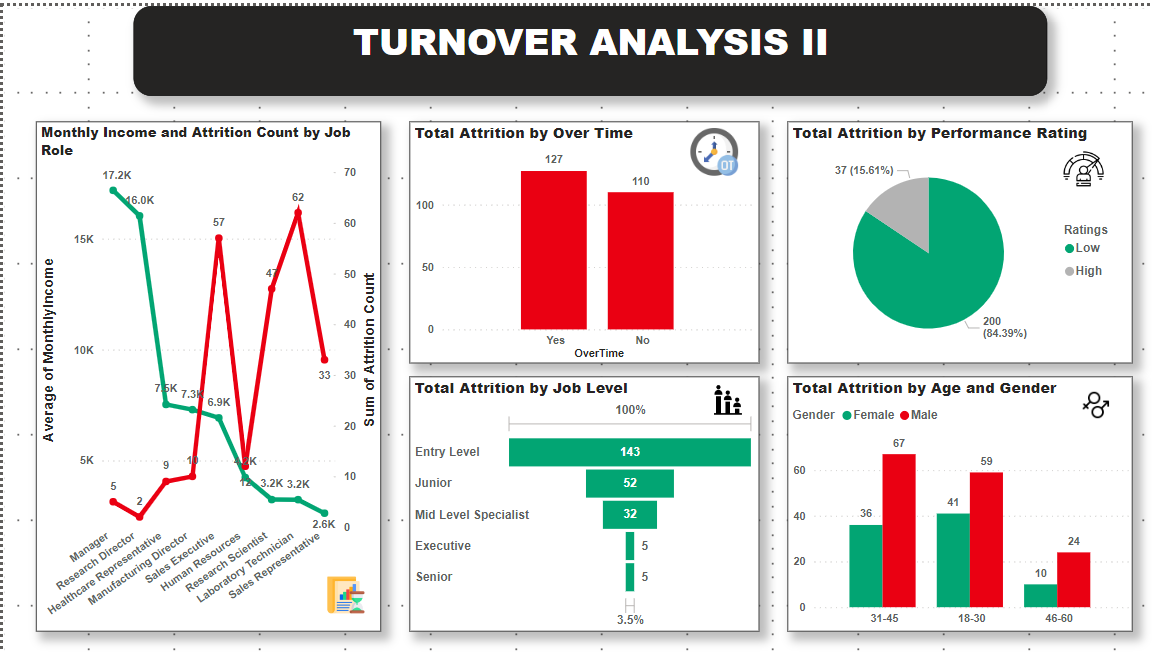

This screenshot's page, from the dashboard's own definition file:
{"tool":"powerbi","page":{"name":"Page 4","canvas":[1280,720],"ordinal":3},"visuals":[{"type":"textbox","title":"TURNOVER ANALYSIS II","box":[145,0,1015,100],"z":0},{"type":"lineChart","title":" Monthly Income and Attrition Count by Job Role","fields":{"Category":["HR-Employee-Attrition.JobRole"],"Y":["Avg(HR-Employee-Attrition.MonthlyIncome)"],"Y2":["Sum(HR-Employee-Attrition.Attrition Count)"]},"box":[36.7,128.3,383.3,566.7],"z":1000},{"type":"image","box":[341.7,628.3,78.3,51.7],"z":2000},{"type":"columnChart","title":"Total Attrition by Over Time","fields":{"Y":["Sum(HR-Employee-Attrition.Attrition Count)"],"Category":["HR-Employee-Attrition.OverTime"]},"box":[451.7,128.3,388.3,268.3],"z":3000},{"type":"pieChart","title":"Total Attrition by Performance Rating","fields":{"Category":["HR-Employee-Attrition.PerformanceRating (groups)"],"Y":["Sum(HR-Employee-Attrition.Attrition Count)"]},"box":[871.7,128.3,383.3,268.3],"z":4000},{"type":"image","box":[740,128.3,100,66.7],"z":5000},{"type":"image","box":[1165,153.3,71.7,55],"z":6000},{"type":"funnel","title":"Total Attrition by Job Level ","fields":{"Y":["Sum(HR-Employee-Attrition.Attrition Count)"],"Category":["HR-Employee-Attrition.JobLevel (groups)"]},"box":[451.7,411.7,388.3,283.3],"z":7000},{"type":"image","box":[770,411.7,70,51.7],"z":8000},{"type":"clusteredColumnChart","title":"Total Attrition by Age and Gender","fields":{"Y":["Sum(HR-Employee-Attrition.Attrition Count)"],"Series":["HR-Employee-Attrition.Gender"],"Category":["HR-Employee-Attrition.Age (groups)"]},"box":[871.7,411.7,383.3,283.3],"z":9000},{"type":"image","box":[1193.3,421.7,41.7,43.3],"z":10000}]}

Visuals, with their boxes in screenshot pixels (x1, y1, x2, y2), scaled from the page's 1280x720 canvas onto the 1152x652 screenshot:
"TURNOVER ANALYSIS II" textbox: detection(130, 0, 1044, 91)
" Monthly Income and Attrition Count by Job Role" lineChart: detection(33, 116, 378, 629)
image: detection(308, 569, 378, 616)
"Total Attrition by Over Time" columnChart: detection(407, 116, 756, 359)
"Total Attrition by Performance Rating" pieChart: detection(785, 116, 1130, 359)
image: detection(666, 116, 756, 177)
image: detection(1048, 139, 1113, 189)
"Total Attrition by Job Level " funnel: detection(407, 373, 756, 629)
image: detection(693, 373, 756, 420)
"Total Attrition by Age and Gender" clusteredColumnChart: detection(785, 373, 1130, 629)
image: detection(1074, 382, 1112, 421)
